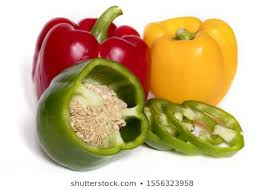bell pepper: (27, 4, 160, 120), (24, 55, 148, 161), (132, 6, 237, 106)
